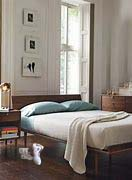copymove: (22, 8, 39, 27)
removal: (116, 34, 132, 82)
spliced: (18, 143, 45, 167)
